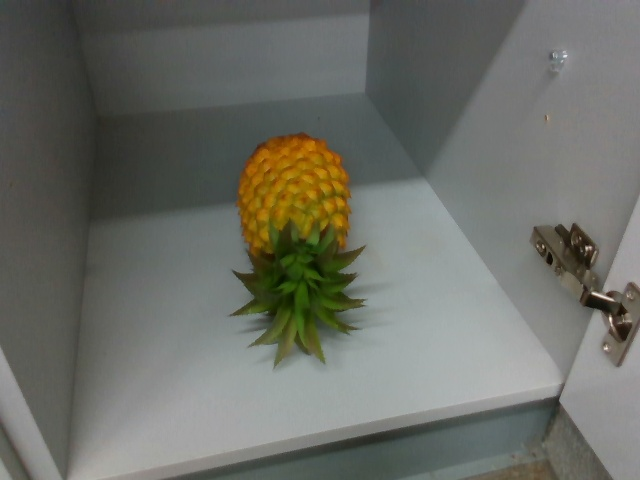pineapple: (232, 125, 370, 367)
